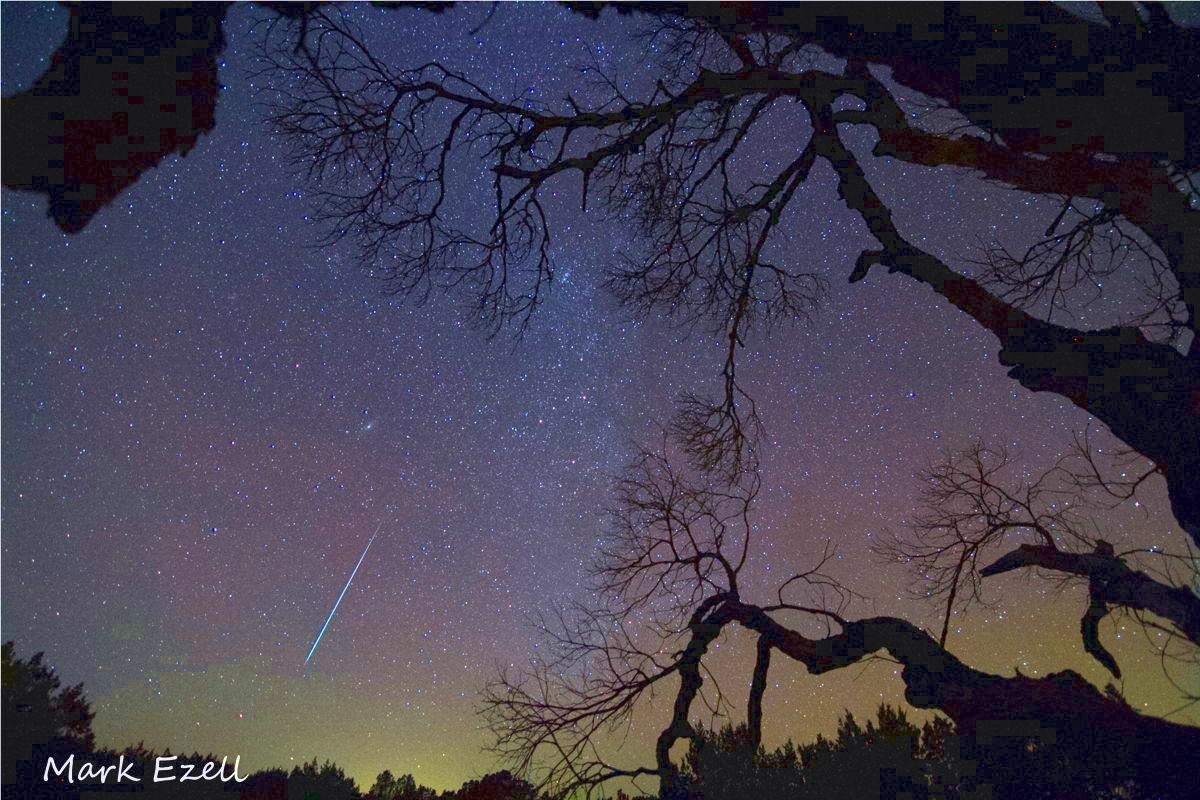meteorite: (277, 538, 403, 679)
